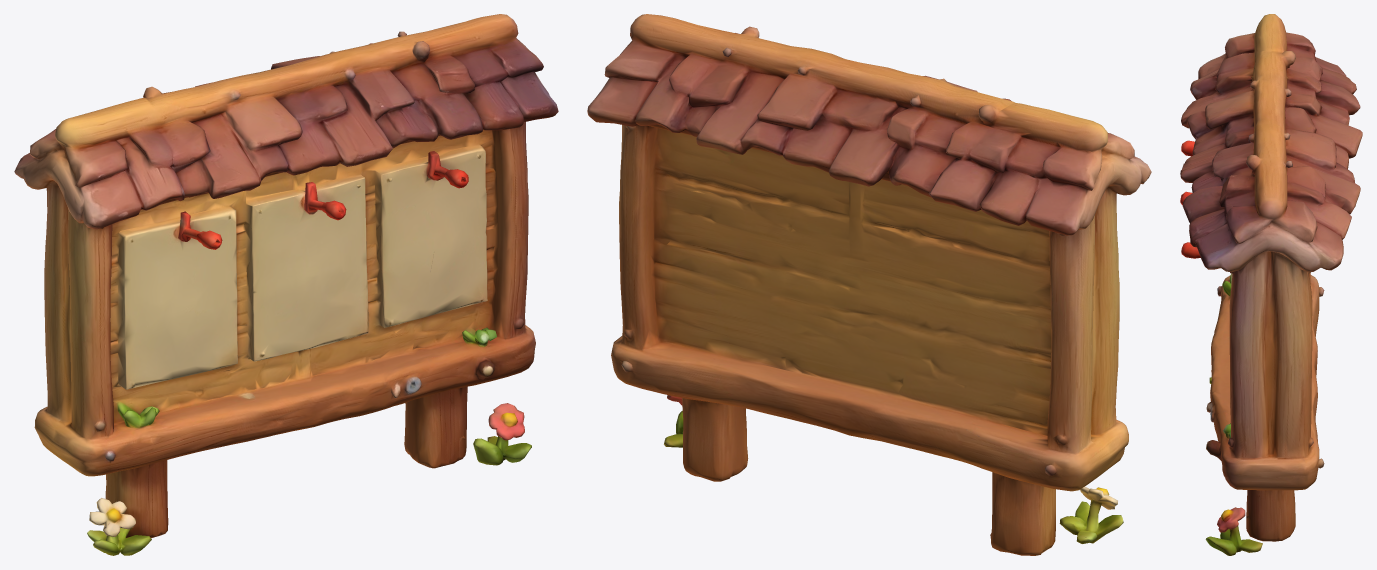
File: board.glb
3 views of the same model, side by side, from view 1: azimuth 30°, elevation 25°; view 2: azimuth 150°, elevation 25°; view 3: azimuth 270°, elevation 25° (orthographic). The views are drawn at different scales.
Parts seen in each view (by area): view 1: tripo_node_3c4f3d99-4920-4007-9314-72c44883628e; view 2: tripo_node_3c4f3d99-4920-4007-9314-72c44883628e; view 3: tripo_node_3c4f3d99-4920-4007-9314-72c44883628e.
Boxes of the visible parts, x1,y1,x2,y2 form: tripo_node_3c4f3d99-4920-4007-9314-72c44883628e: (14,14,558,555); tripo_node_3c4f3d99-4920-4007-9314-72c44883628e: (587,14,1151,555); tripo_node_3c4f3d99-4920-4007-9314-72c44883628e: (1180,14,1362,555).
Size of the model in its own units: 1 by 0.8623 by 0.389.
1 material, 1 textured.
